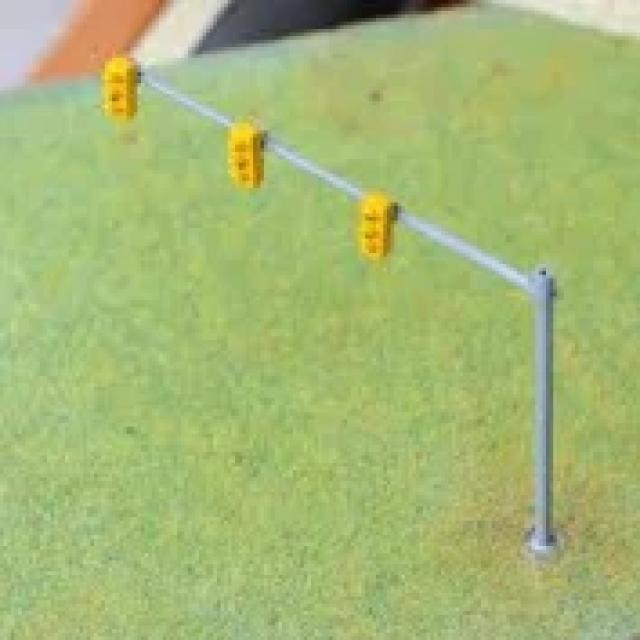suv: (354, 192, 398, 260), (224, 119, 264, 188), (98, 54, 138, 120)
